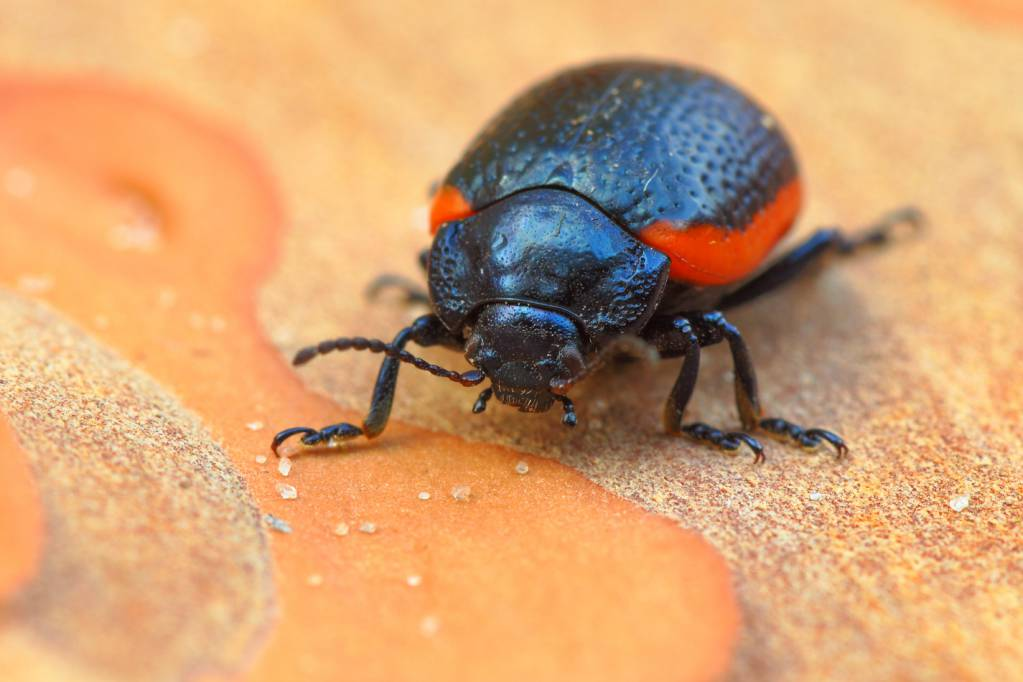Chrysolina_gypsophila: (258, 48, 925, 487)
